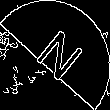N_SW: (26, 23, 84, 87)
